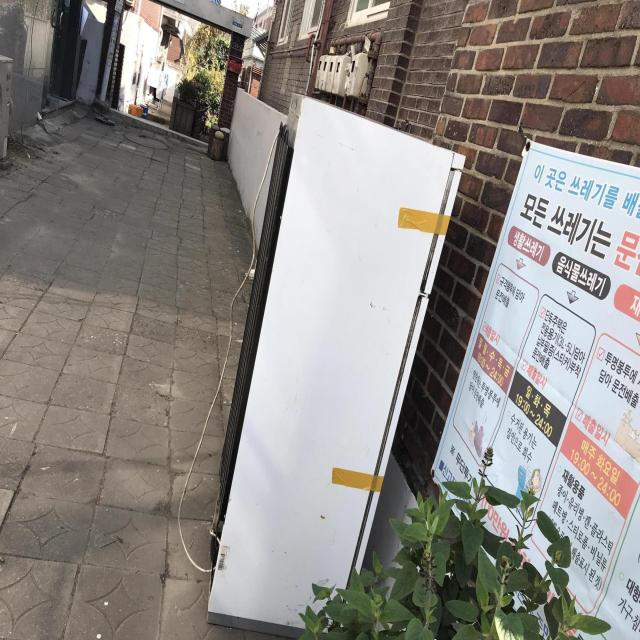refrigerator: (205, 94, 465, 636)
